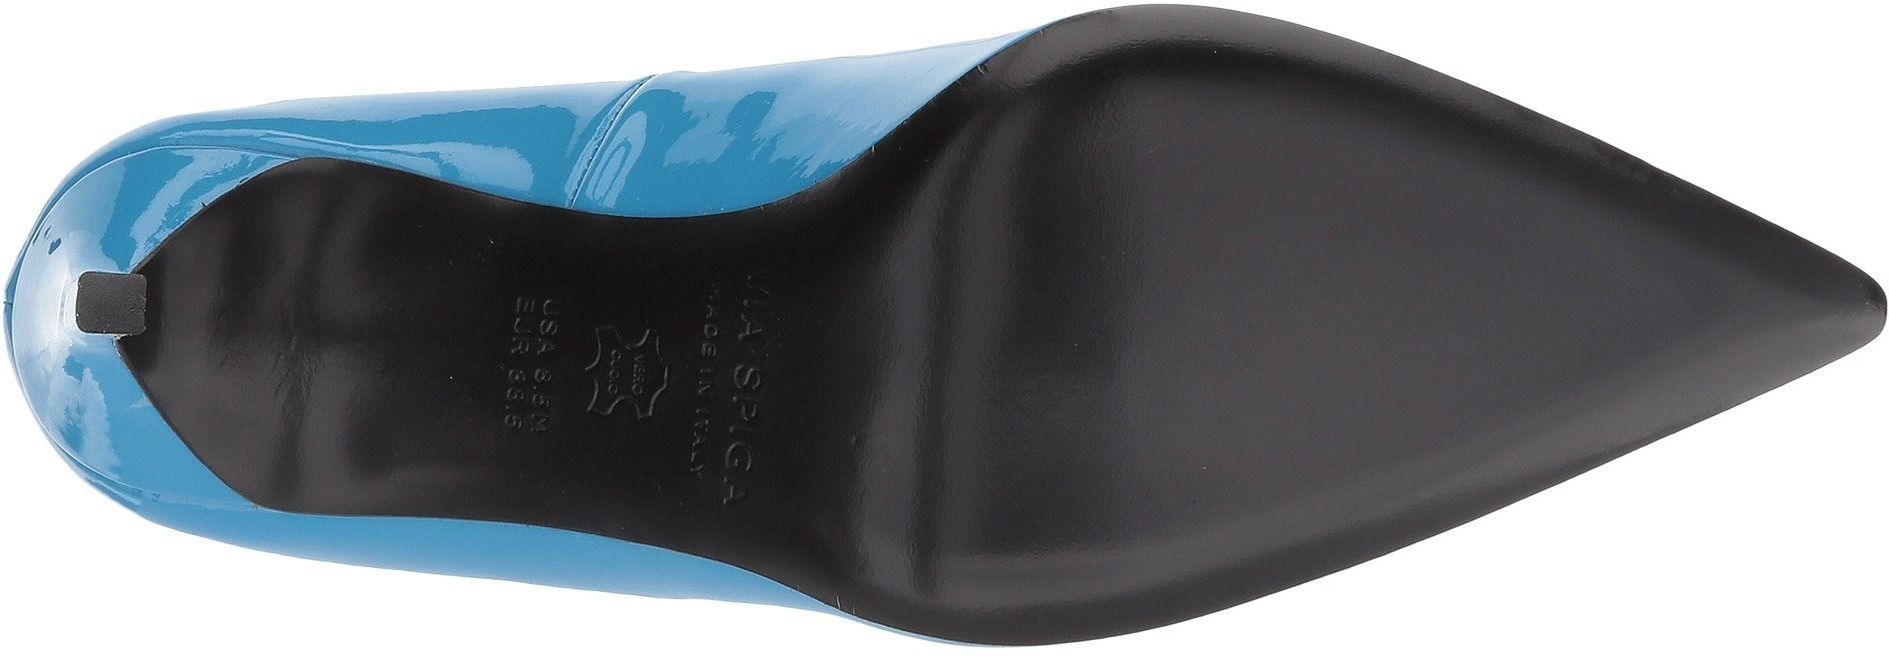exclude: (1, 43, 781, 647)
other: (923, 133, 1220, 533), (1220, 102, 1503, 501), (1511, 194, 1734, 393), (792, 215, 920, 546)
quad: (54, 258, 157, 359)
